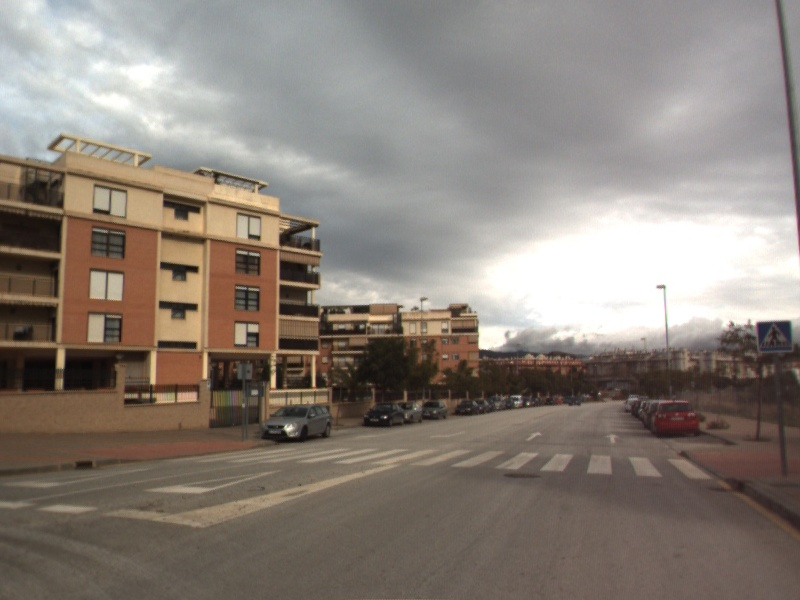STRAIGHT: (602, 431, 622, 445), (523, 430, 544, 443)
